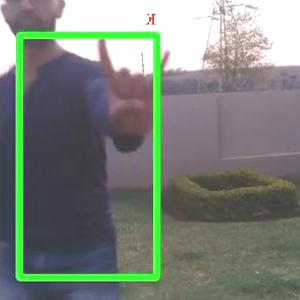takeoff-hand: (92, 32, 176, 131)
